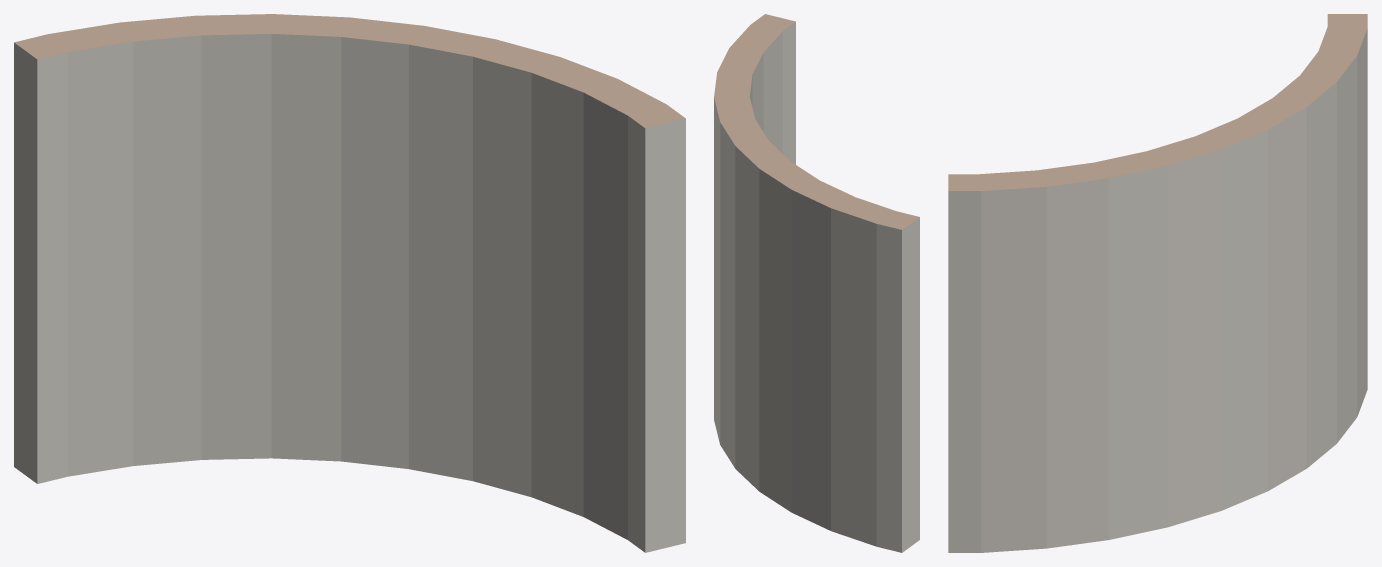
File: Structure_Wall_Curved_Small_Main.glb
3 renders of one model, left to right at view 1: azimuth 30°, elevation 25°; view 2: azimuth 150°, elevation 25°; view 3: azimuth 270°, elevation 25°, orthographic. The views are drawn at different scales.
Visible parts, largest first — view 1: Structure_Wall_Curved_Small_Main; view 2: Structure_Wall_Curved_Small_Main; view 3: Structure_Wall_Curved_Small_Main.
Part boxes in pixels (box(x1,y1,x2,y2)): Structure_Wall_Curved_Small_Main: box(14, 14, 685, 552); Structure_Wall_Curved_Small_Main: box(714, 14, 919, 552); Structure_Wall_Curved_Small_Main: box(948, 14, 1367, 552).
Bounding box in the file's own units: 1.05 × 1 × 1.05.
